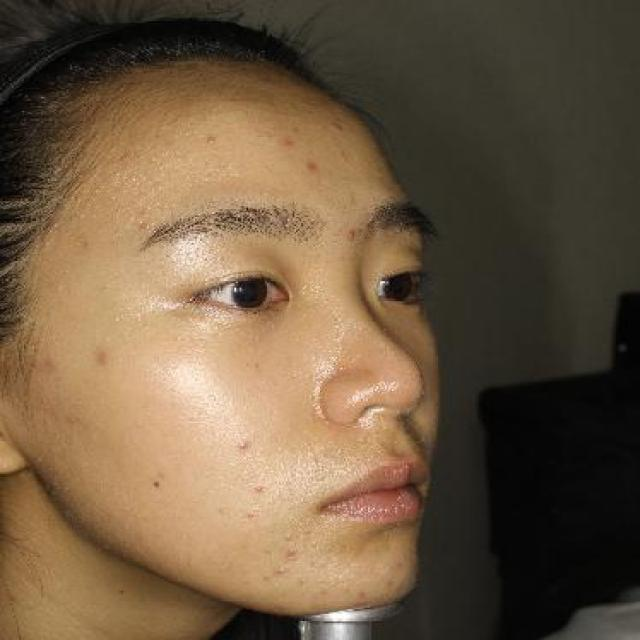Acne: (85, 342, 122, 372), (230, 434, 258, 455)
Whiteheads: (197, 125, 225, 152), (269, 558, 294, 580), (248, 480, 270, 500), (284, 540, 301, 563)
